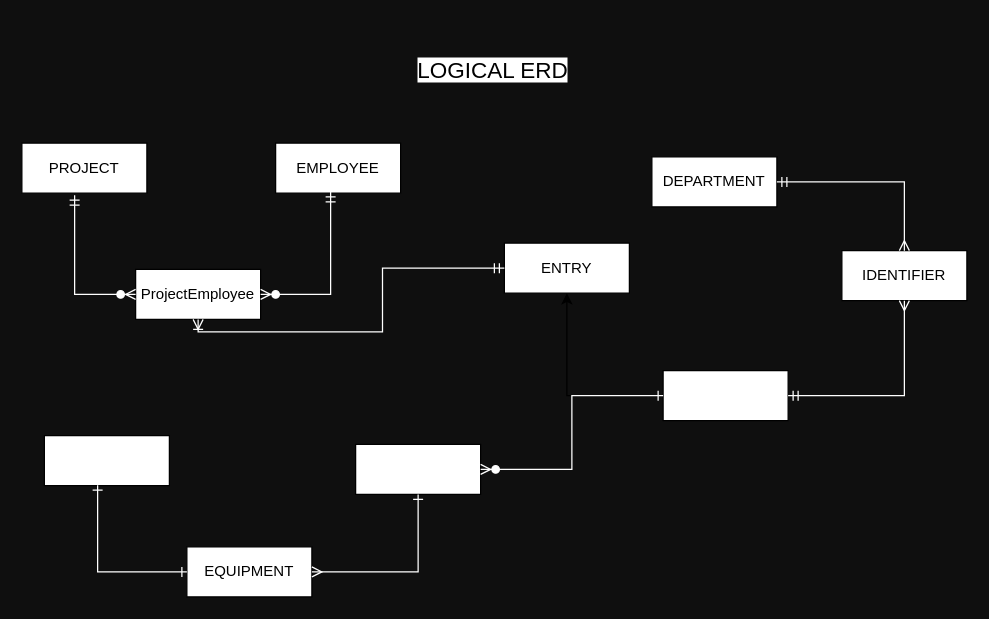
Some shapes in this 989 by 619 pixel diagram are drawn without their labels. Each missing label, with the centre of its shape:
"CATEGORY" belongs at point 106,460.
"OFFICE" belongs at point 417,468.
"SECTTION" belongs at point 725,395.
